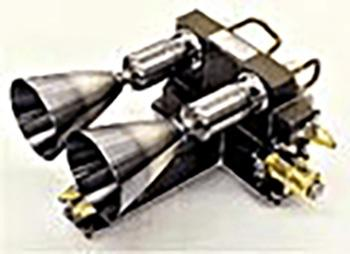thruster: (72, 117, 188, 229), (8, 70, 128, 160)
